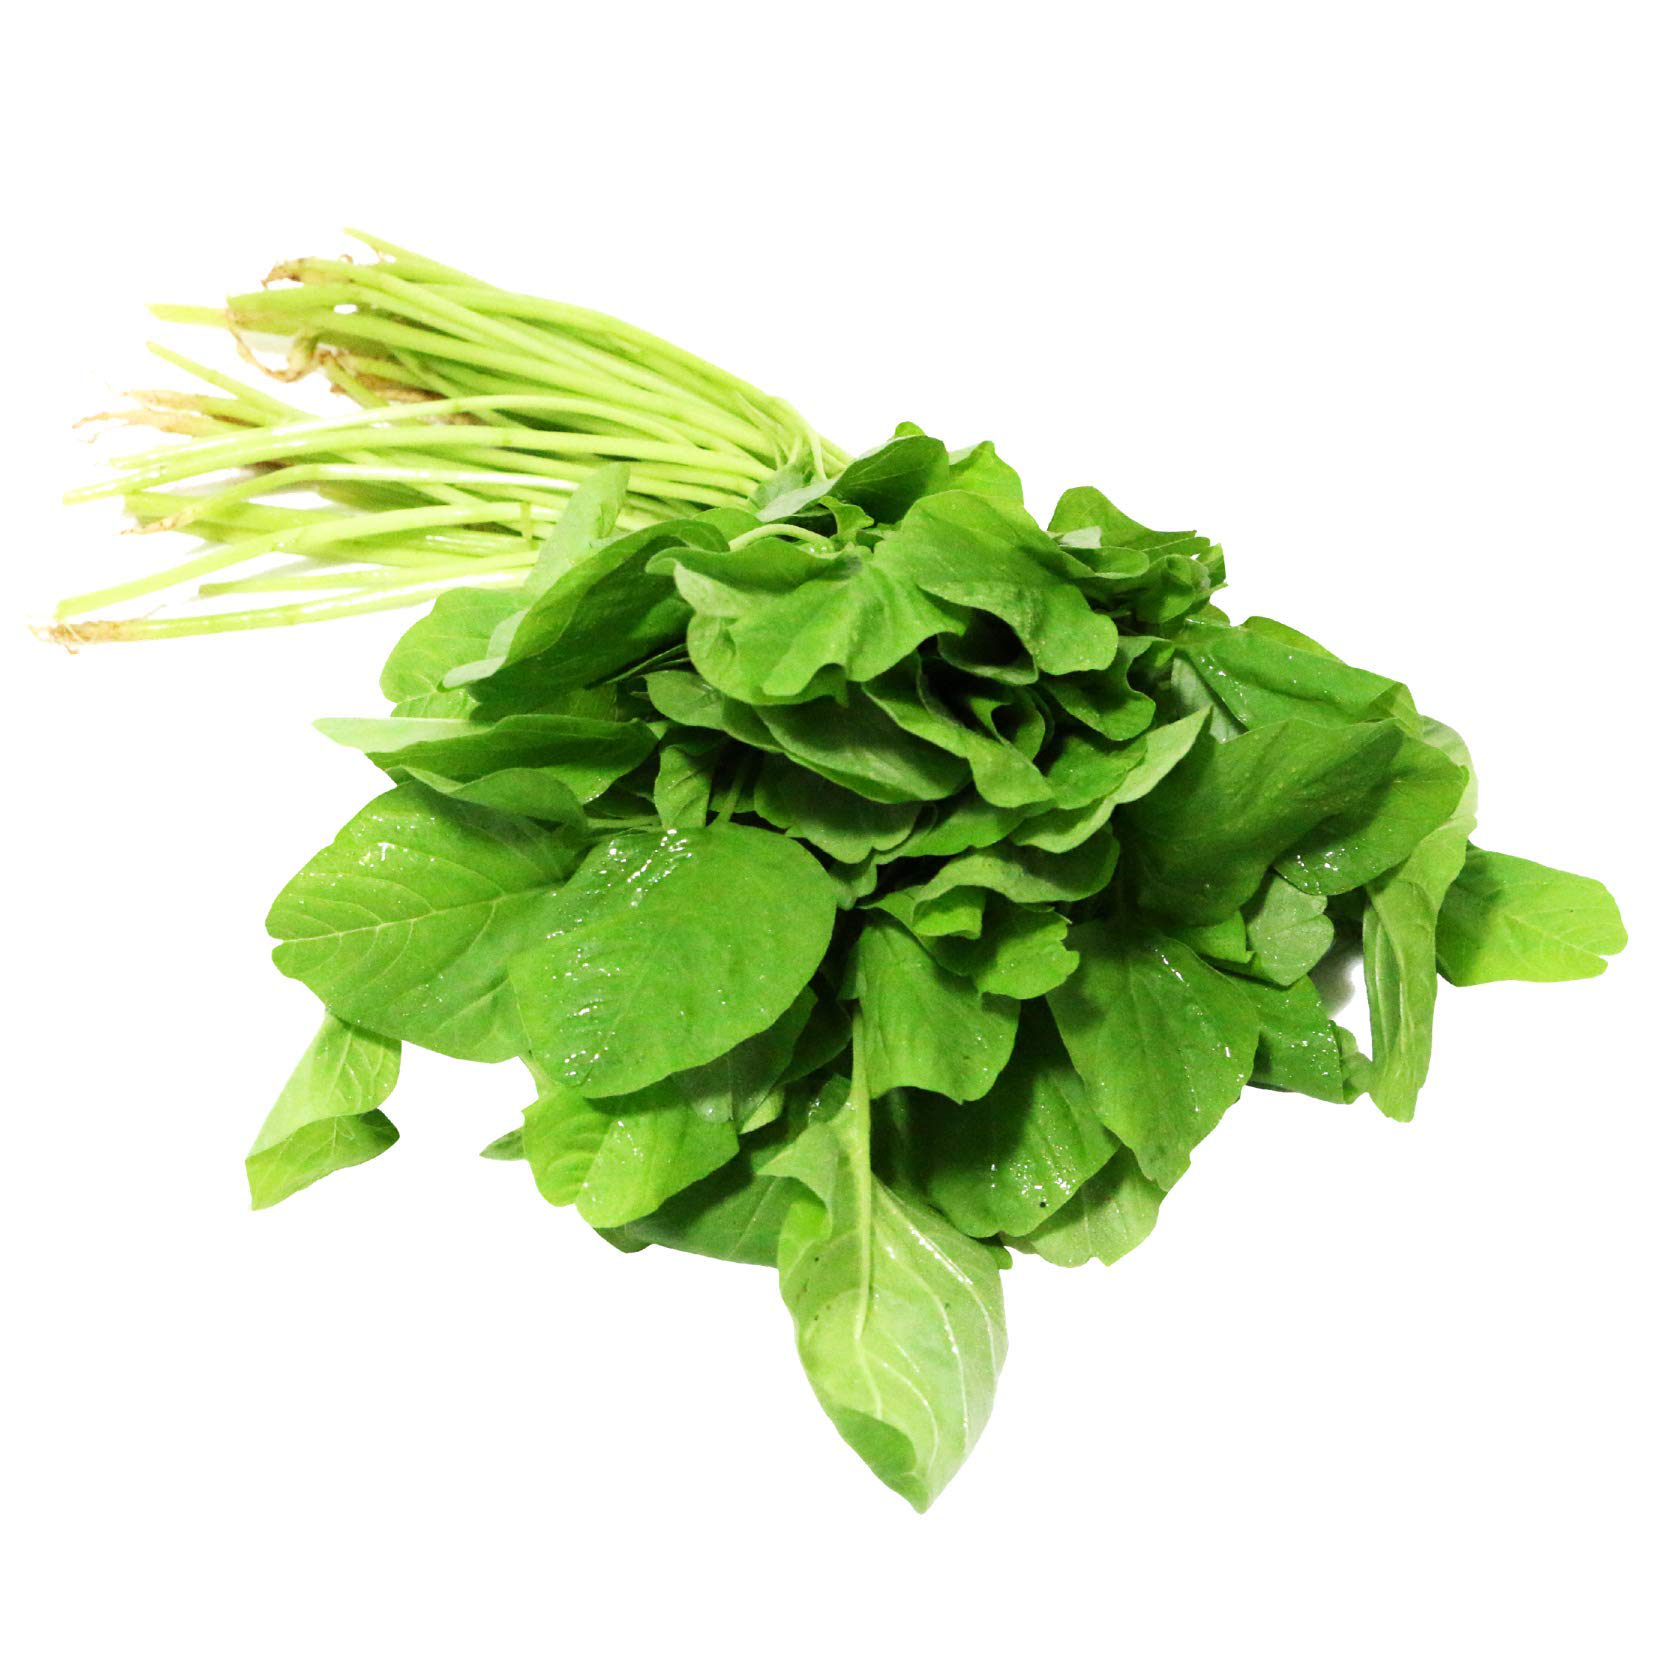Bayam: (105, 194, 1651, 1554)
